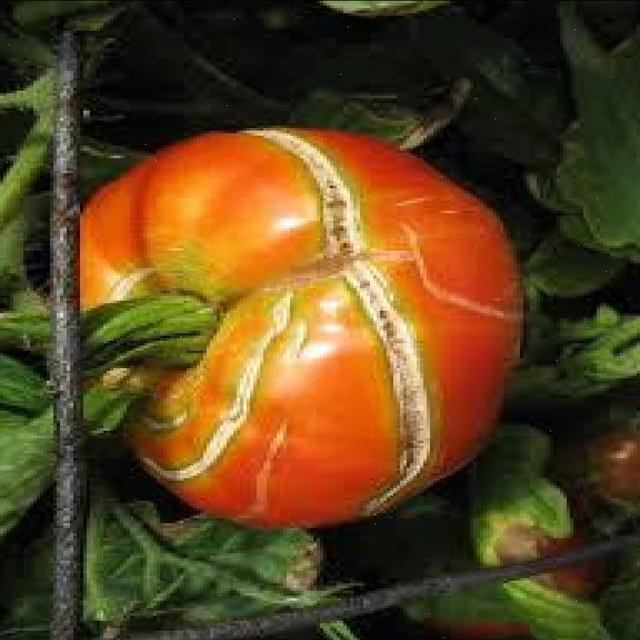Cracking Fruit: (95, 133, 218, 270)
